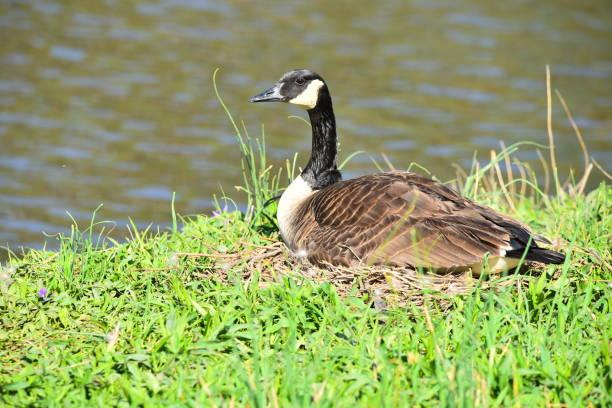Canadian-Goose: (247, 63, 562, 275)
